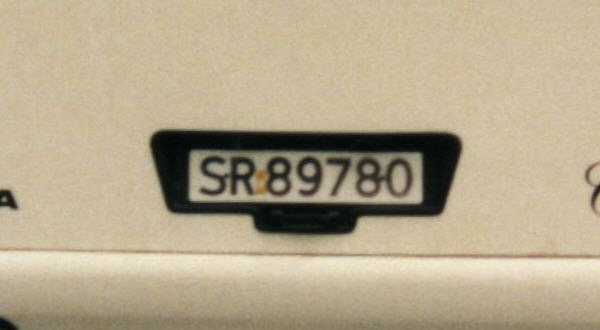license_plate: (187, 151, 423, 203)
